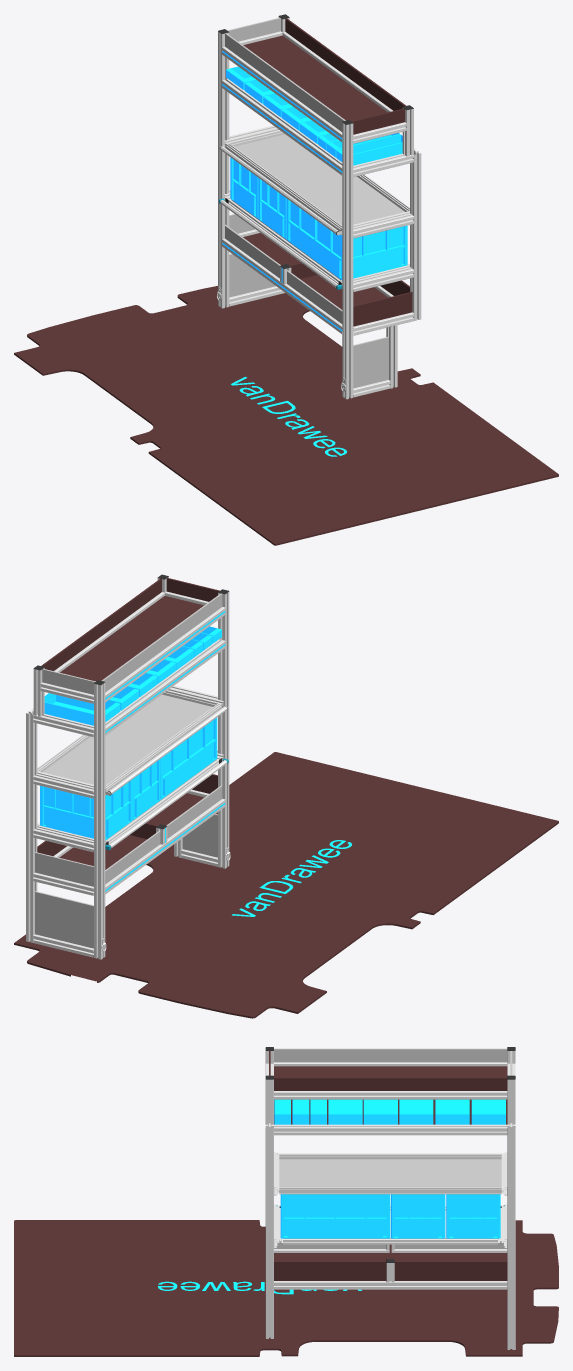
The model's file is vd_export_regalova_vestavba_ford_transit_l2h2_fwd_9358cf1a.glb.
3 renders of one model, top to bottom at view 1: azimuth 30°, elevation 25°; view 2: azimuth 150°, elevation 25°; view 3: azimuth 270°, elevation 25°, orthographic. The views are drawn at different scales.
Visible parts, largest first — view 1: SomeName002_Mesh_2028_2, blue_klt, 45x45x1600_noha (×2), CUB6_1215x413, PR10_1266x306, Multibox_Arc, 45x45x1267_Zx2 (×3), CUB10_395x260 (×2), 45x45x970_noha, CUB10_1292x89, PR10_1266x395, PR10_1292x89 (+12 smaller); view 2: SomeName002_Mesh_2028_2, blue_klt, 45x45x1600_noha (×2), CUB6_1215x413, PR10_1266x306, CUB10_395x260 (×2), Multibox_Arc, 45x45x1267_Zx2 (×3), 45x45x1330_noha, 45x45x369_Zx2 (×3), CUB10_1292x89, PR10_1292x89 (+12 smaller); view 3: SomeName002_Mesh_2028_2, blue_klt, CUB6_1215x413, 45x45x1267_Zx2_2 (×3), Multibox_Arc, CUB10_1292x89, PR10_1292x89, 45x45x1267_Zx2 (×2), PR10_1266x306, PR10_1266x395 (×2), PR10_635x130_2, PR10_635x130 (+11 smaller).
Part boxes in pixels (left/top/right/bottom): SomeName002_Mesh_2028_2: left=14, top=286, right=558, bottom=545; blue_klt: left=230, top=157, right=407, bottom=280; 45x45x1600_noha (×2): left=218, top=31, right=353, bottom=399; CUB6_1215x413: left=234, top=134, right=404, bottom=225; PR10_1266x306: left=243, top=35, right=387, bottom=121; Multibox_Arc: left=226, top=66, right=402, bottom=165; 45x45x1267_Zx2 (×3): left=222, top=32, right=392, bottom=333; CUB10_395x260 (×2): left=229, top=253, right=388, bottom=390; 45x45x970_noha: left=410, top=151, right=421, bottom=320; CUB10_1292x89: left=225, top=33, right=345, bottom=131; PR10_1266x395: left=243, top=233, right=387, bottom=309; PR10_1292x89: left=285, top=18, right=406, bottom=110; SomeName002_Mesh_2028_2: left=14, top=752, right=558, bottom=1018; blue_klt: left=40, top=717, right=217, bottom=840; 45x45x1600_noha (×2): left=94, top=592, right=229, bottom=959; CUB6_1215x413: left=42, top=694, right=212, bottom=785; PR10_1266x306: left=60, top=596, right=203, bottom=681; CUB10_395x260 (×2): left=35, top=814, right=217, bottom=948; Multibox_Arc: left=44, top=626, right=221, bottom=725; 45x45x1267_Zx2 (×3): left=54, top=592, right=225, bottom=894; 45x45x1330_noha: left=26, top=711, right=37, bottom=942; 45x45x369_Zx2 (×3): left=33, top=773, right=93, bottom=957; CUB10_1292x89: left=101, top=593, right=222, bottom=692; PR10_1292x89: left=41, top=578, right=161, bottom=670; SomeName002_Mesh_2028_2: left=14, top=1220, right=558, bottom=1356; blue_klt: left=280, top=1194, right=500, bottom=1238; CUB6_1215x413: left=278, top=1159, right=502, bottom=1191; 45x45x1267_Zx2_2 (×3): left=274, top=1062, right=507, bottom=1289; Multibox_Arc: left=274, top=1099, right=505, bottom=1124; CUB10_1292x89: left=274, top=1048, right=507, bottom=1062; PR10_1292x89: left=274, top=1077, right=507, bottom=1090; 45x45x1267_Zx2 (×2): left=274, top=1091, right=507, bottom=1252; PR10_1266x306: left=274, top=1066, right=507, bottom=1077; PR10_1266x395 (×2): left=274, top=1099, right=507, bottom=1260; PR10_635x130_2: left=394, top=1261, right=507, bottom=1280; PR10_635x130: left=274, top=1261, right=386, bottom=1280.
Bounding box in the file's own units: 1737 × 1619 × 2960.
